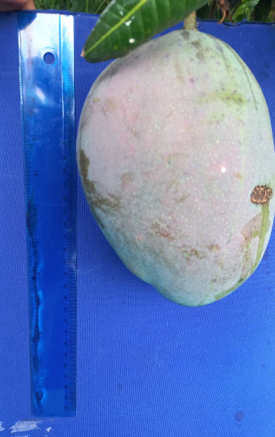Mango-sano: (77, 30, 274, 306)
